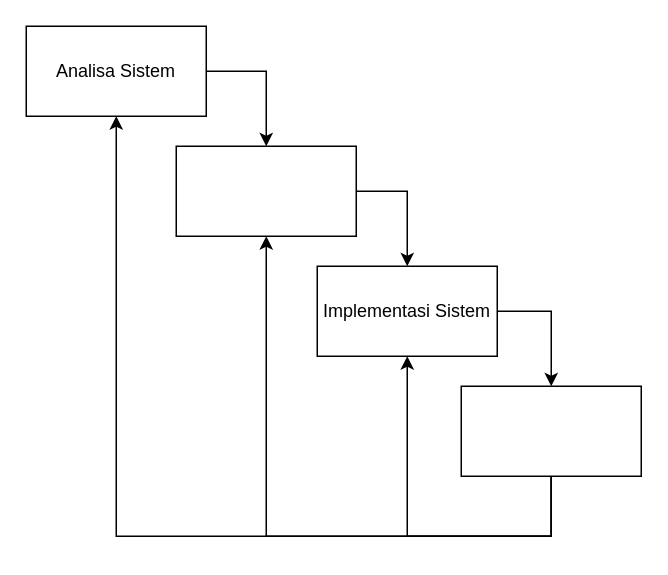
Image size: 668x575. Some labels were removed from this diagram. The centre of each missing label's shape, as x and y in pixels:
"Pengujian Sistem" belongs at pixel 550 430.
"Perancangan Sistem" belongs at pixel 265 190.
